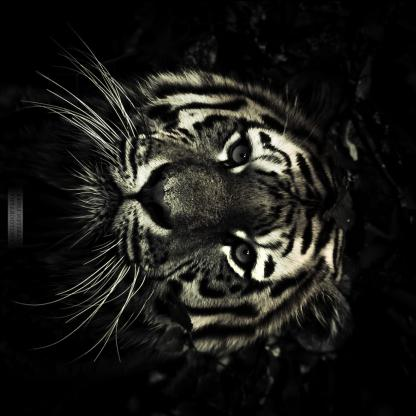tiger: (52, 45, 370, 373)
